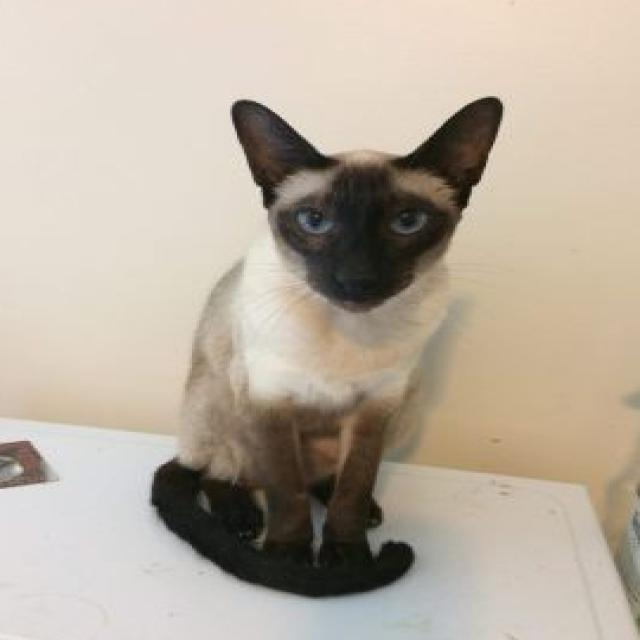Siamese: (147, 91, 511, 601)
